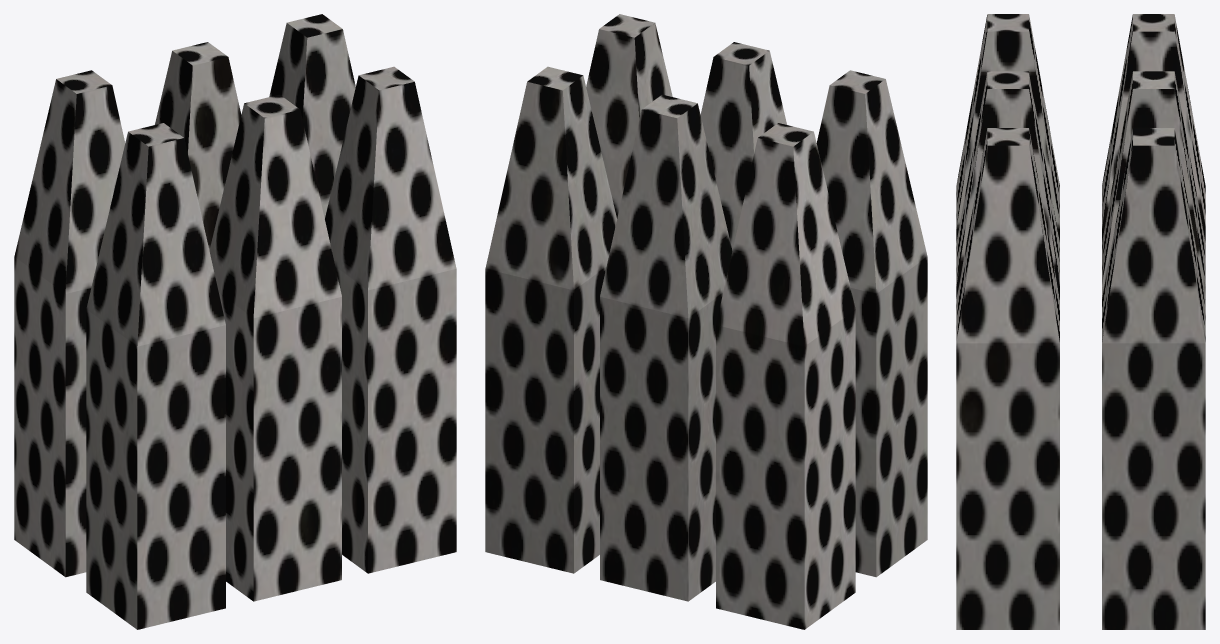
Rendered from ammo.obj.
3 renders of one model, left to right at view 1: azimuth 30°, elevation 25°; view 2: azimuth 150°, elevation 25°; view 3: azimuth 270°, elevation 25°, orthographic.
Visible parts, largest first — view 1: ammo_ZombieGirl_body_Material; view 2: ammo_ZombieGirl_body_Material; view 3: ammo_ZombieGirl_body_Material.
Part boxes in pixels (x1,y1,x2,y2): ammo_ZombieGirl_body_Material: (14, 14, 456, 629); ammo_ZombieGirl_body_Material: (485, 14, 927, 629); ammo_ZombieGirl_body_Material: (956, 14, 1205, 629).
Size of the model in its own units: 7.21 by 10.05 by 4.81.
